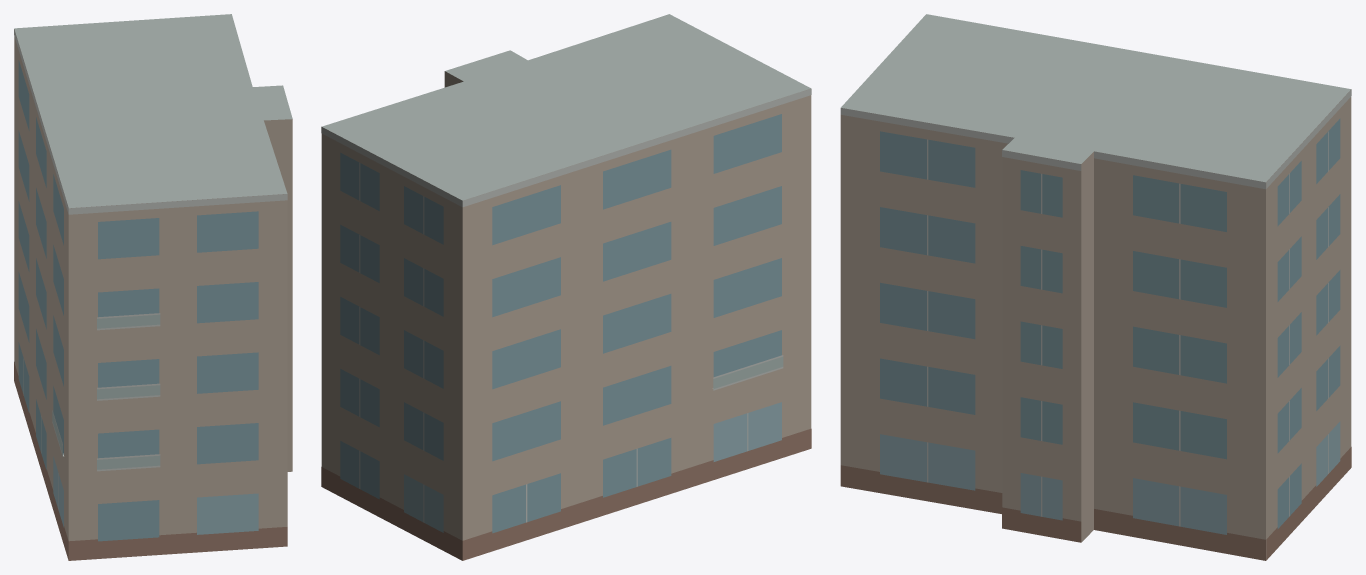
The model's file is survey-upis-32999608.glb.
3 views of the same model, side by side, from view 1: azimuth 30°, elevation 25°; view 2: azimuth 150°, elevation 25°; view 3: azimuth 270°, elevation 25° (orthographic). The views are drawn at different scales.
Parts seen in each view (by area): view 1: survey-upis-32999608.tmp; view 2: survey-upis-32999608.tmp; view 3: survey-upis-32999608.tmp.
Boxes of the visible parts, bbox=[...] form: survey-upis-32999608.tmp: bbox=[14, 14, 292, 560]; survey-upis-32999608.tmp: bbox=[321, 14, 811, 560]; survey-upis-32999608.tmp: bbox=[840, 14, 1351, 560].
Size of the model in its own units: 12.6 by 13.2 by 16.15.
